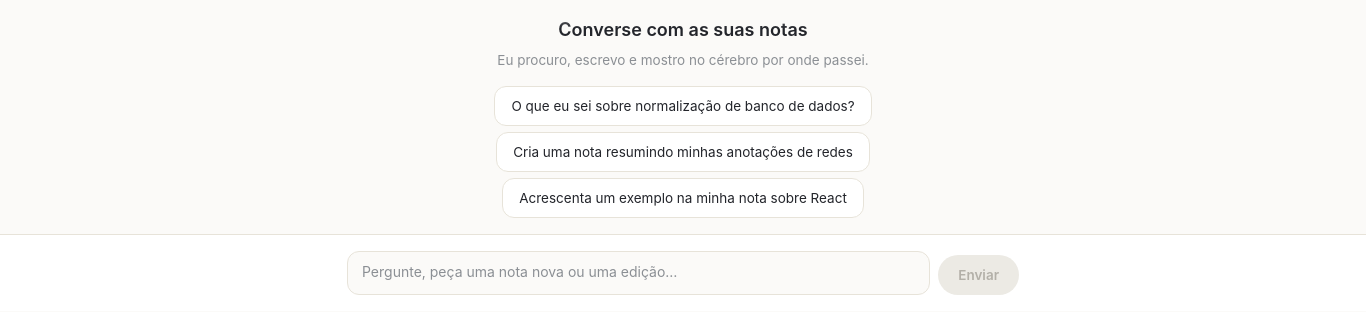
Chat › envia a mensagem, mostra a resposta do agente e os resumos das ferramentas usadas
The image size is (1366, 312).
Type "O que é TCP?" into the text box with placeholder "Pergunte, peça uma nota nova ou uma edição…". click: (639, 273)
box: x1=347 y1=251 x2=930 y2=295
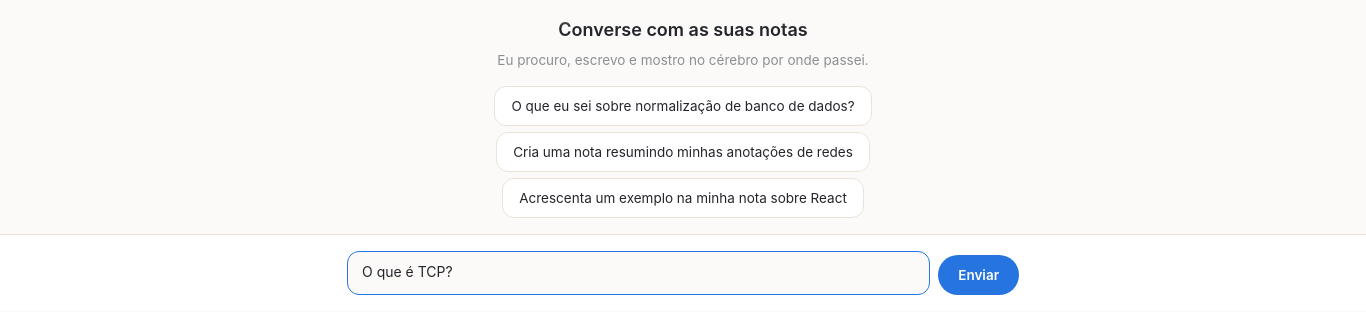
Click the button "Enviar". click: (979, 275)
box: x1=938 y1=255 x2=1019 y2=295
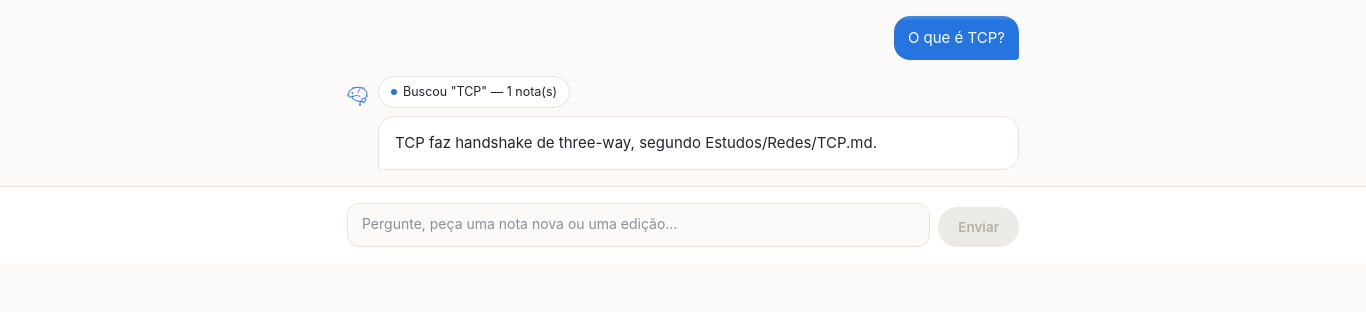
Check: the text "O que é TCP?" is shown, box x1=894 y1=16 x2=1019 y2=60
Check: the text "TCP faz handshake de three-way, segundo Estudos/Redes/TCP.md." is shown, box x1=395 y1=133 x2=877 y2=152
Check: the text "Buscou \"TCP\" — 1 nota(s)" is shown, box x1=403 y1=83 x2=557 y2=101
